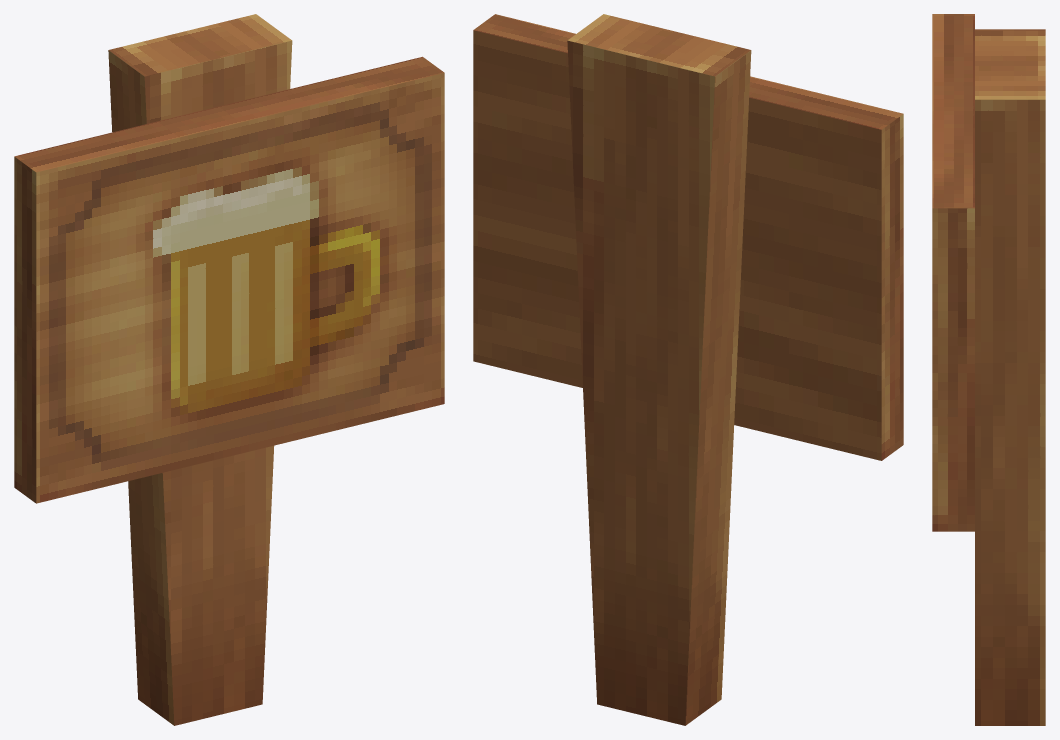
Rendered from Signboard - PUB1.fbx.
3 views of the same model, side by side, from view 1: azimuth 30°, elevation 25°; view 2: azimuth 150°, elevation 25°; view 3: azimuth 270°, elevation 25° (orthographic). The views are drawn at different scales.
Visible parts, largest first — view 1: signboard_PUB; view 2: signboard_PUB; view 3: signboard_PUB.
Part boxes in pixels (x1,y1,x2,y2): signboard_PUB: (14, 14, 444, 725); signboard_PUB: (473, 14, 903, 725); signboard_PUB: (932, 14, 1045, 725).
Size of the model in its own units: 0.651 by 1 by 0.1607.
